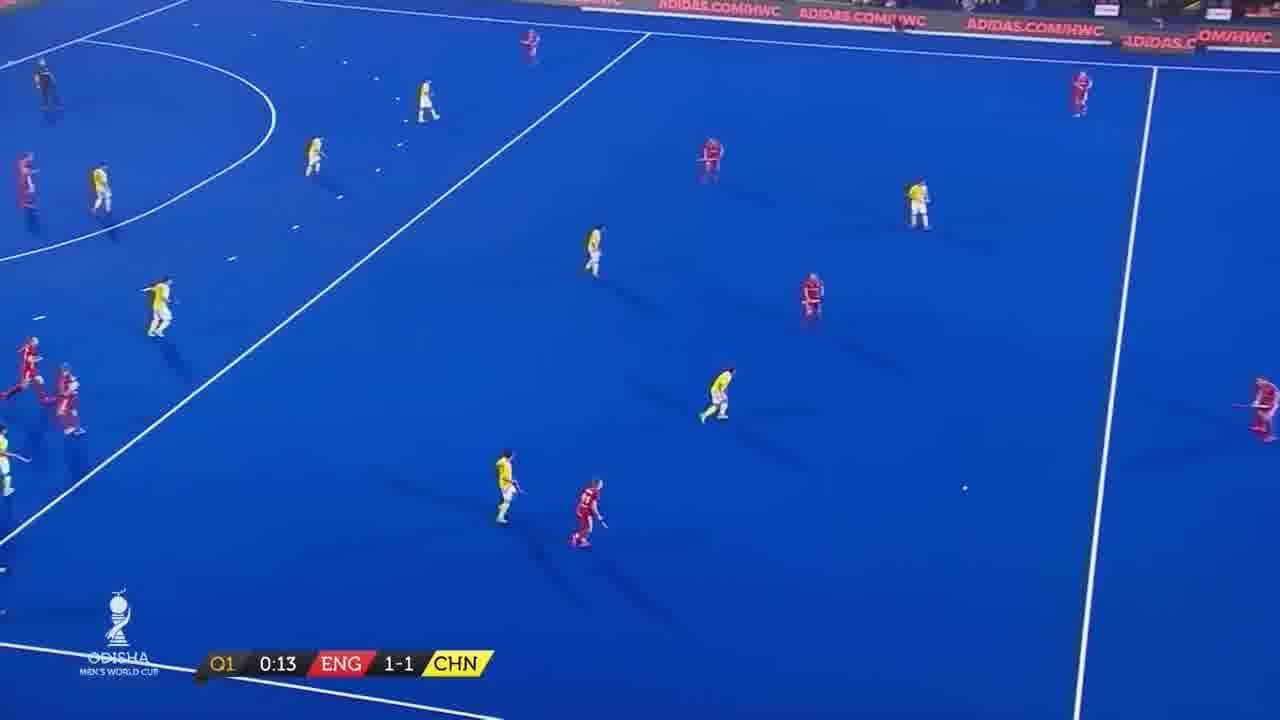ball: (953, 478, 980, 497)
